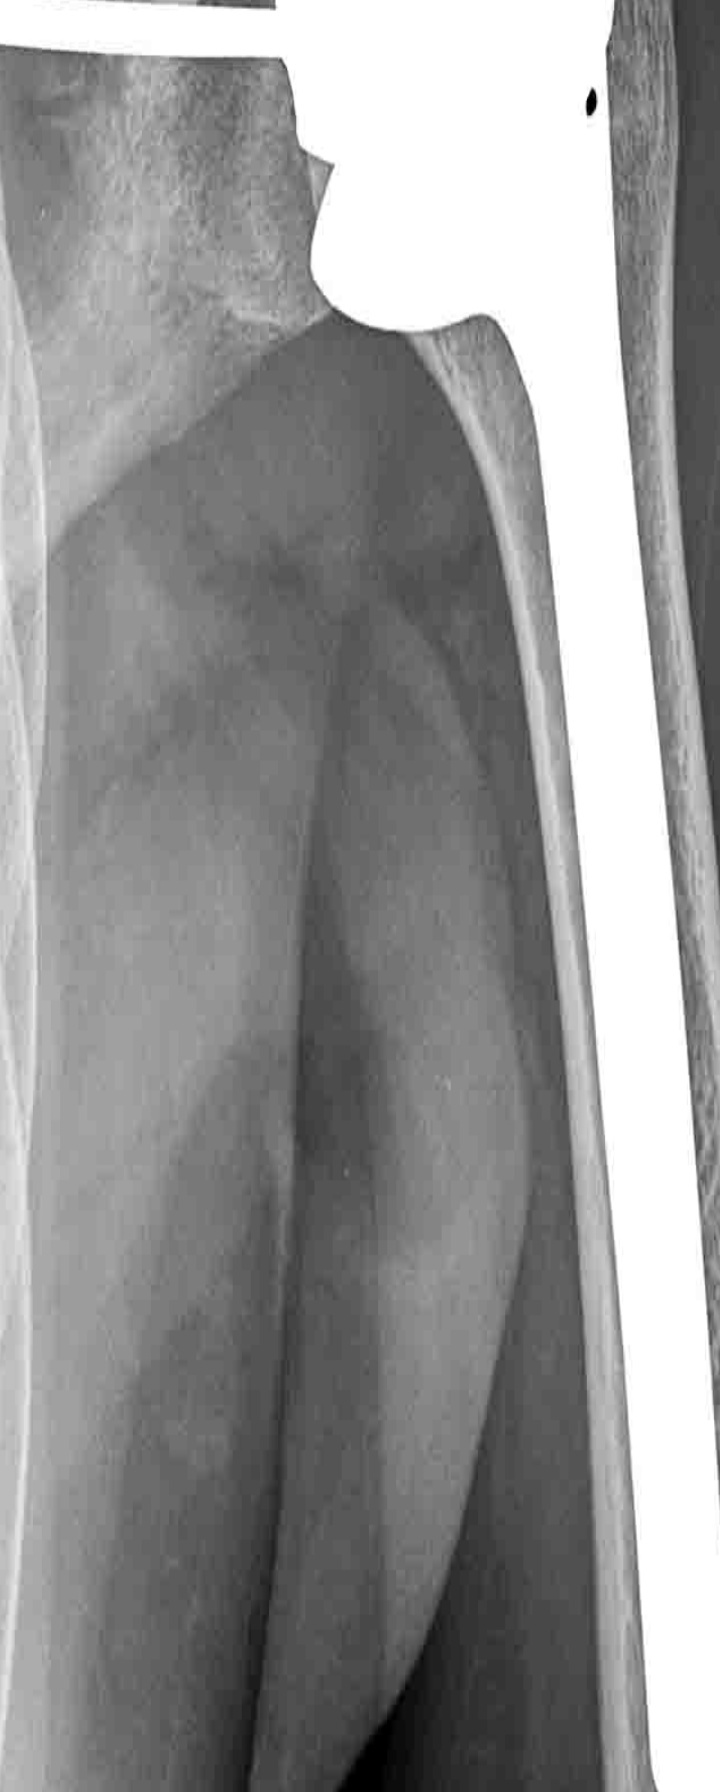Shoulder-Reverse-DJO: (1, 1, 720, 1792)
